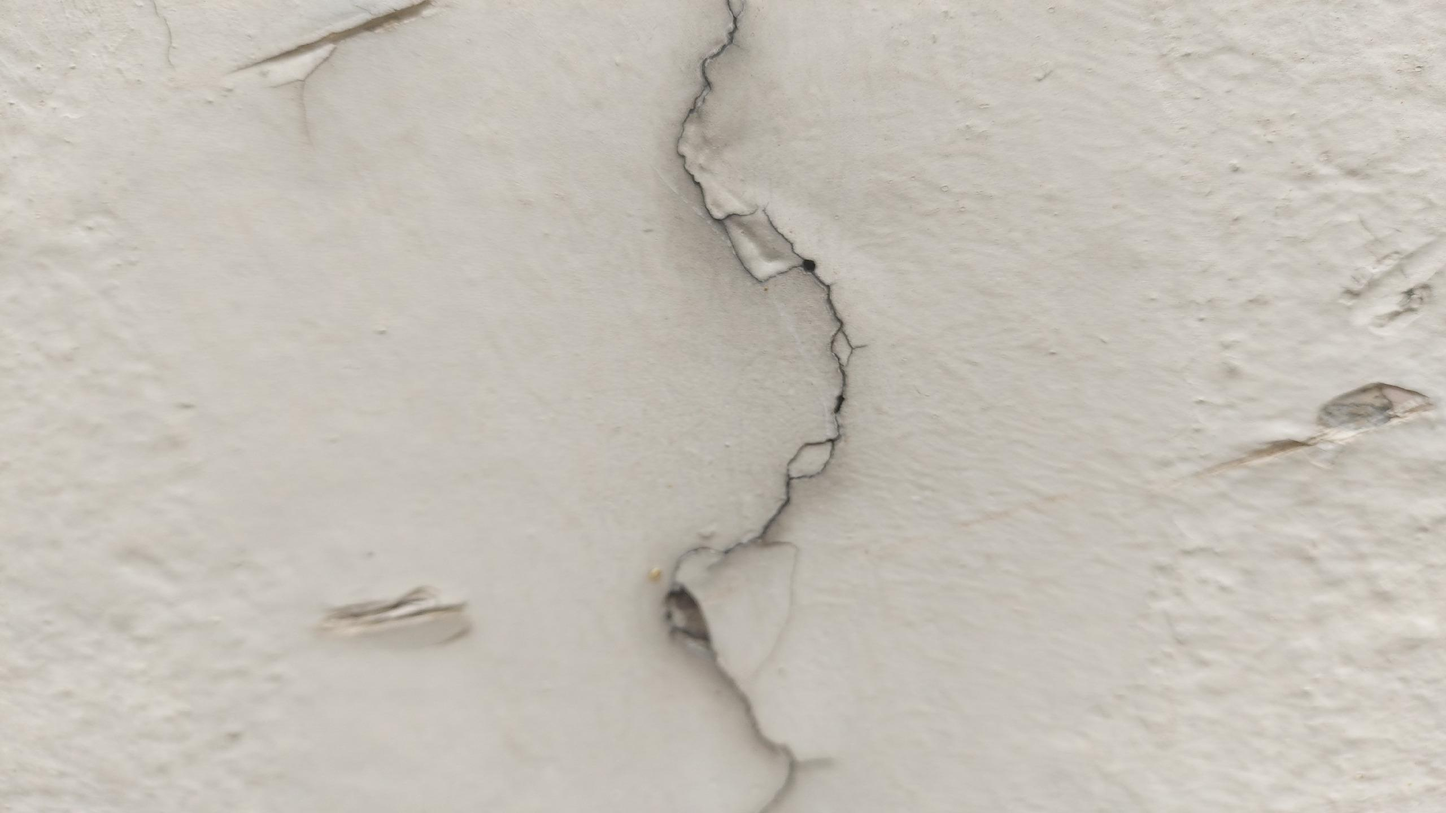crack: (664, 7, 852, 806)
